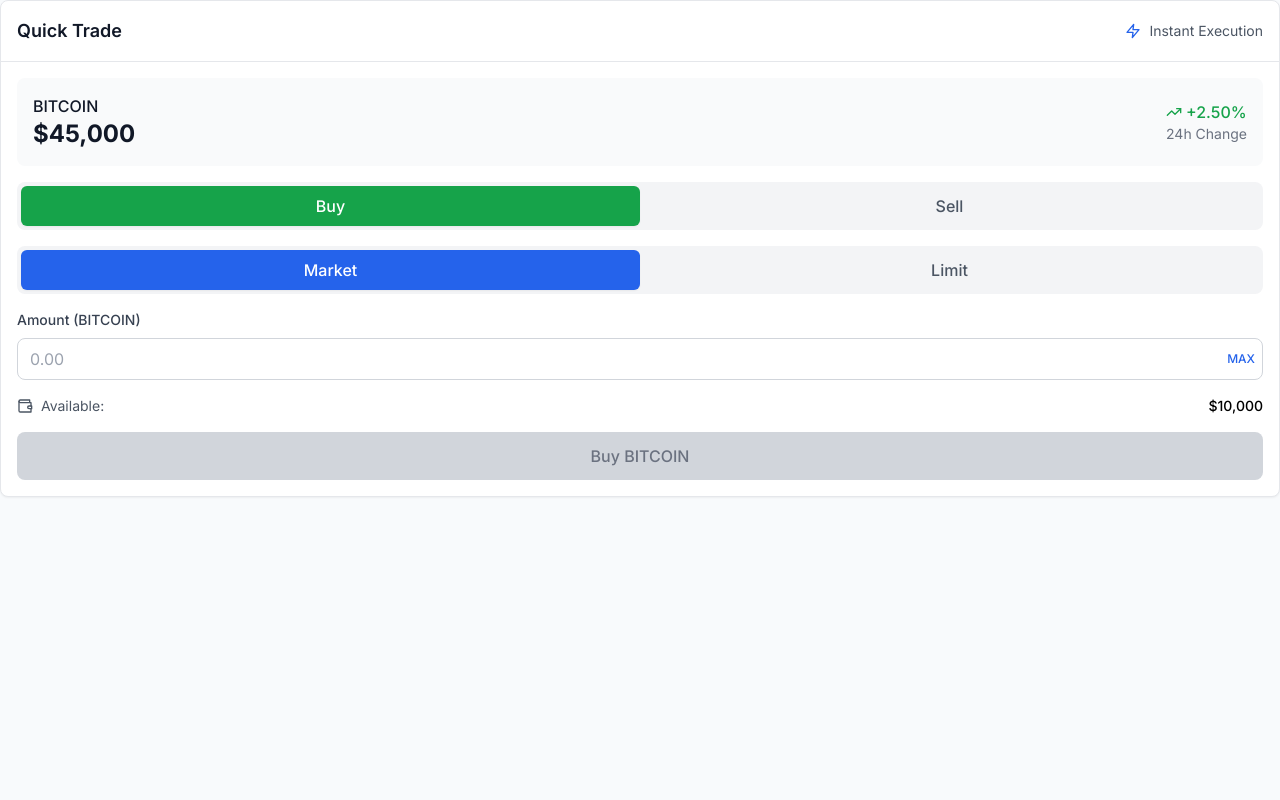
Test case: QuickTradePanel Component - Trading Interface Tests › Additional Trading Features › shows limit price input for limit orders
This screenshot has width=1280, height=800.
Click the button with aria-label "limit order".
click(950, 270)  # box [640,250,1259,290]
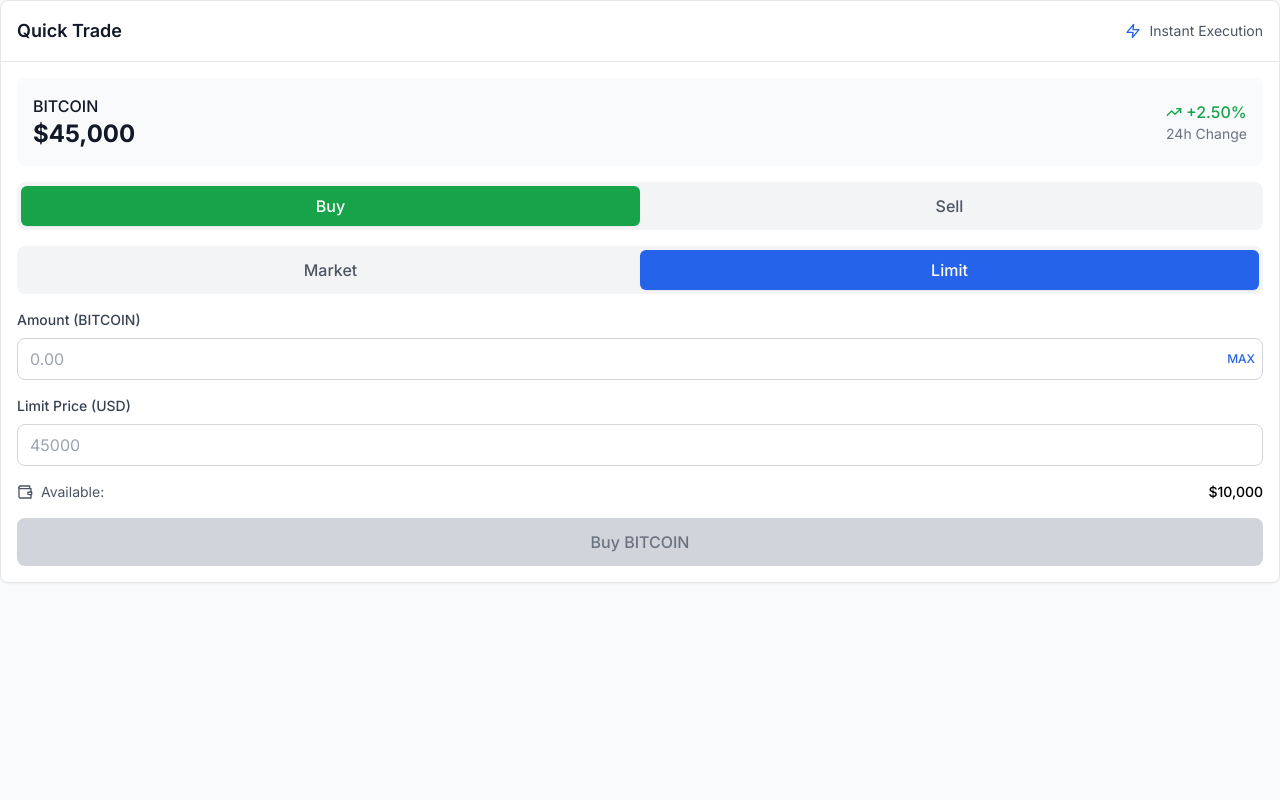
expect the number field named "enter limit price in usd" is shown: met, box [17,424,1263,466]
